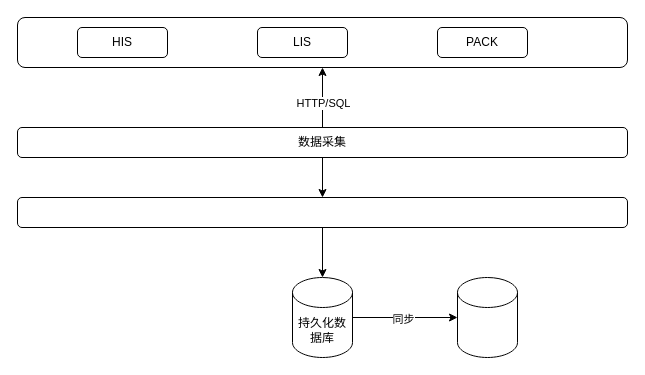
Image size: 645x375. Some labels were removed from this diagram. The shapes that lost their labels are listed below. From the top down, each one's centre as x and y in pixels, then its label:
At point 322,212: "数据清洗".
At point 487,317: "ES".
